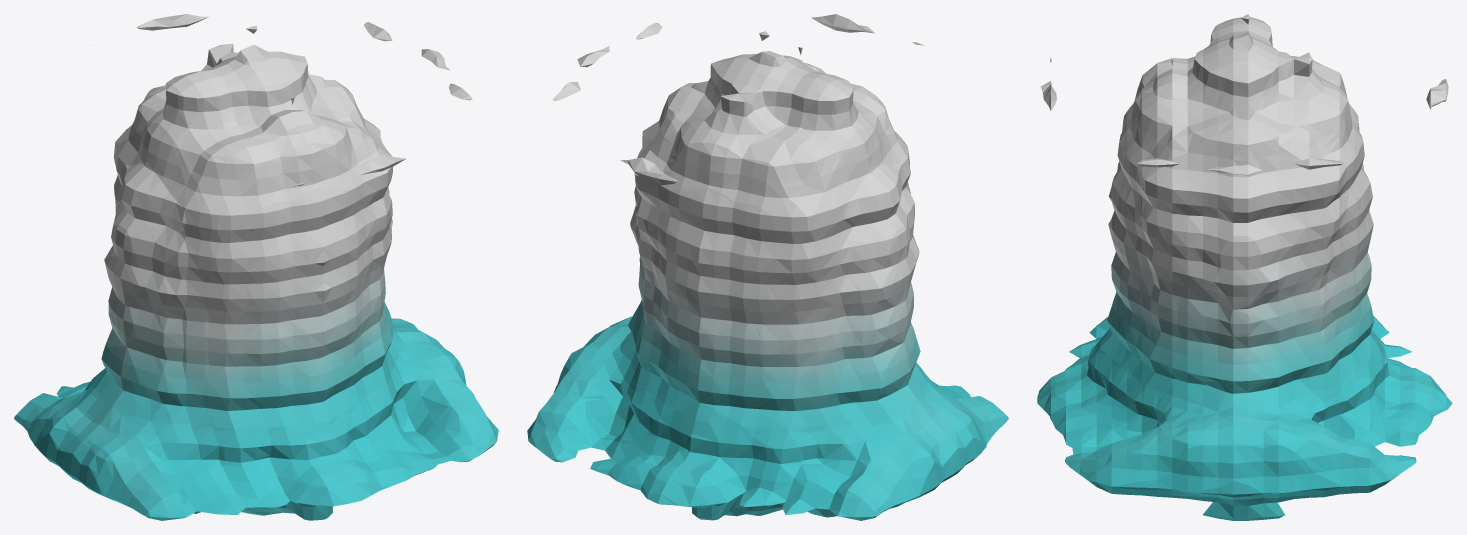
The picture shows the model from 3 angles, left to right: view 1: azimuth 30°, elevation 25°; view 2: azimuth 150°, elevation 25°; view 3: azimuth 270°, elevation 25°; orthographic projection. The views are drawn at different scales.
Visible parts, largest first — view 1: geometry_0; view 2: geometry_0; view 3: geometry_0.
Boxes of the visible parts, x1,y1,x2,y2 form: geometry_0: [14, 14, 498, 520]; geometry_0: [527, 14, 1008, 520]; geometry_0: [1037, 14, 1452, 520].
Size of the model in its own units: 1.21 by 1.45 by 1.16.
